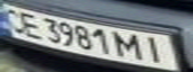1: (90, 26, 112, 55)
3: (36, 16, 63, 44)
8: (72, 24, 93, 52)
9: (54, 19, 75, 47)
C: (0, 6, 30, 35)
E: (15, 10, 45, 39)
I: (139, 34, 172, 64)
M: (115, 29, 148, 61)
